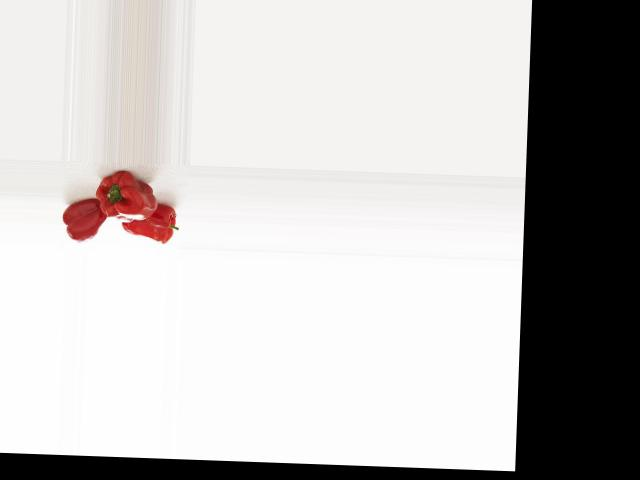bell_pepper: (59, 195, 104, 242)
